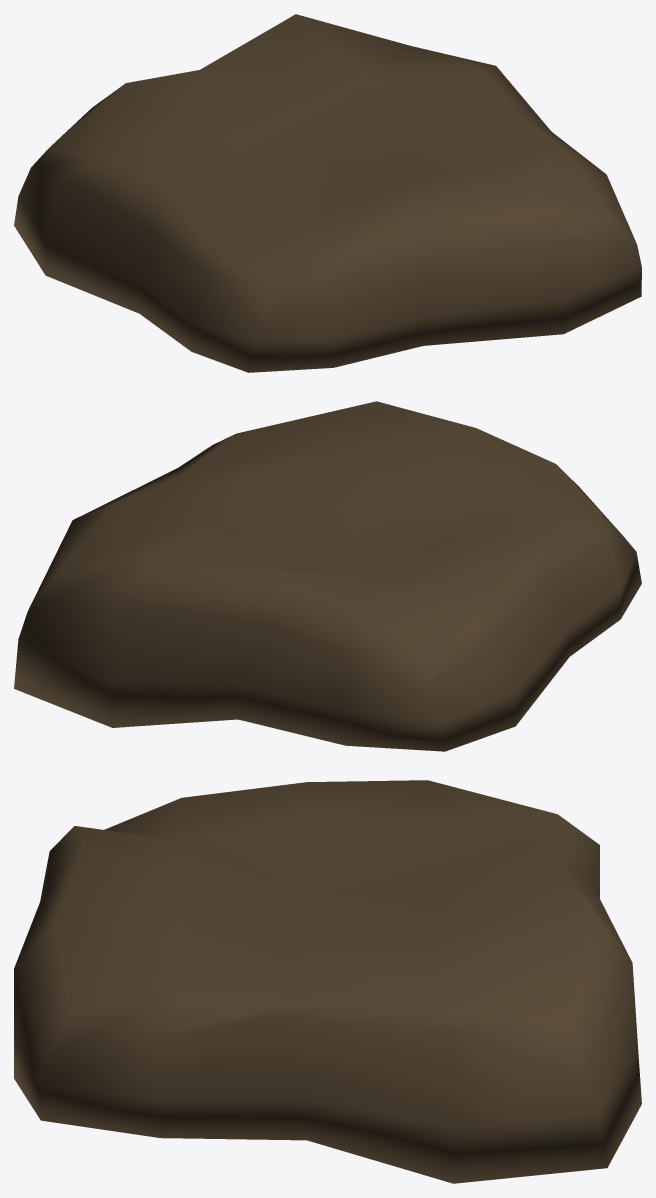
File: Dirt_Damp.fbx
3 views of the same model, one above another, from view 1: azimuth 30°, elevation 25°; view 2: azimuth 150°, elevation 25°; view 3: azimuth 270°, elevation 25° (orthographic). The views are drawn at different scales.
Parts seen in each view (by area): view 1: Dirt_Damp; view 2: Dirt_Damp; view 3: Dirt_Damp.
Boxes of the visible parts, left/top/right/bottom form: Dirt_Damp: left=14, top=14, right=641, bottom=372; Dirt_Damp: left=14, top=401, right=641, bottom=751; Dirt_Damp: left=14, top=780, right=641, bottom=1183.
Size of the model in its own units: 93.94 by 32.03 by 93.94.
